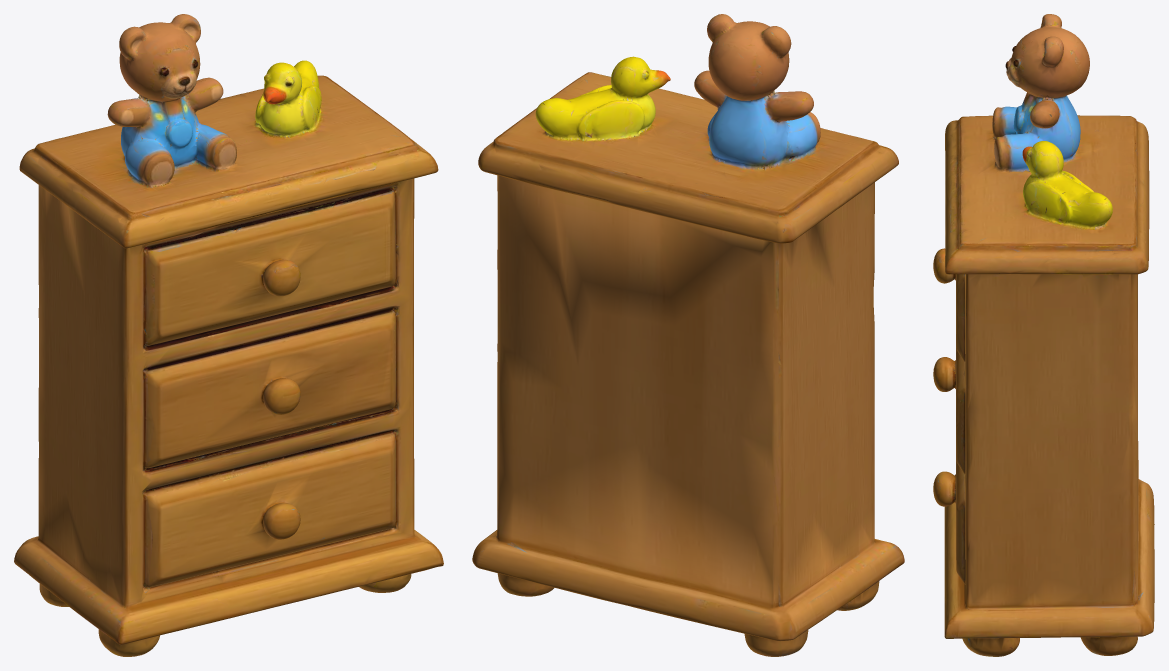
Rendered from dresser.glb.
3 renders of one model, left to right at view 1: azimuth 30°, elevation 25°; view 2: azimuth 150°, elevation 25°; view 3: azimuth 270°, elevation 25°, orthographic. The views are drawn at different scales.
Parts seen in each view (by area): view 1: Mesh_0; view 2: Mesh_0; view 3: Mesh_0.
Part boxes in pixels (x1,y1,x2,y2): Mesh_0: (14,14,443,656); Mesh_0: (472,14,904,656); Mesh_0: (933,14,1154,656).
Size of the model in its own units: 1.11 by 1.91 by 0.7147.
1 material, 1 textured.
